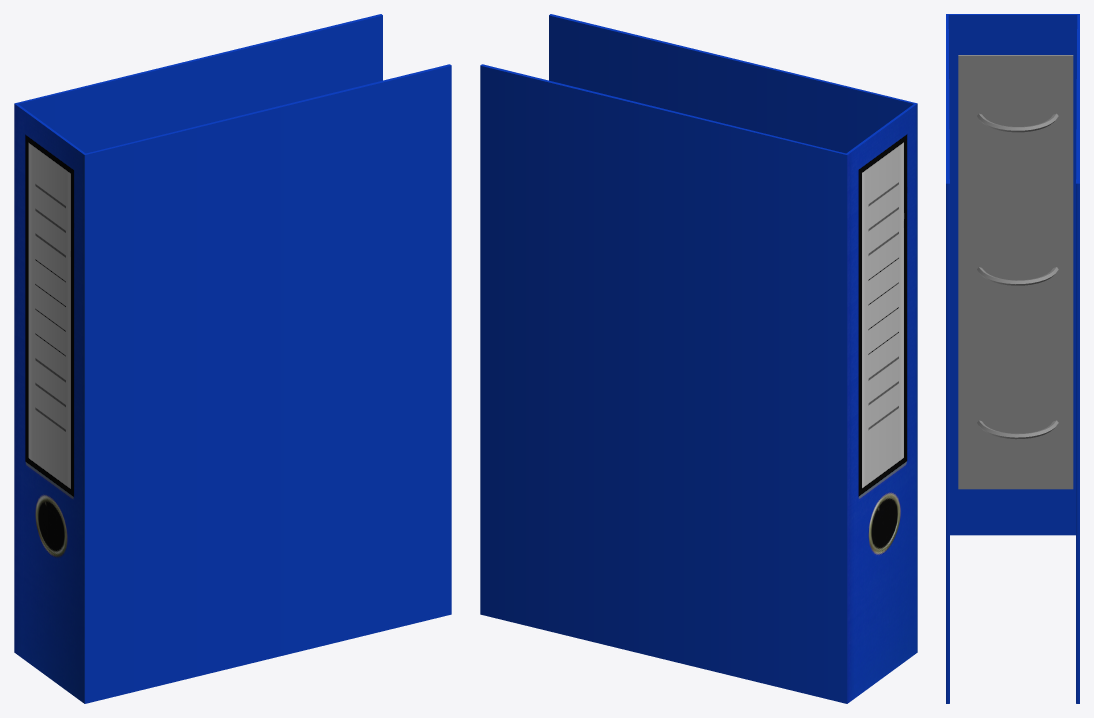
The model's file is Folder 3.fbx.
3 renders of one model, left to right at view 1: azimuth 30°, elevation 25°; view 2: azimuth 150°, elevation 25°; view 3: azimuth 270°, elevation 25°, orthographic. The views are drawn at different scales.
Visible parts, largest first — view 1: Folder 3; view 2: Folder 3; view 3: Folder 3.
Boxes of the visible parts, left/top/right/bottom form: Folder 3: left=14, top=14, right=451, bottom=703; Folder 3: left=480, top=14, right=917, bottom=703; Folder 3: left=946, top=14, right=1079, bottom=703.
Bounding box in the file's own units: 21 × 30 × 7.
